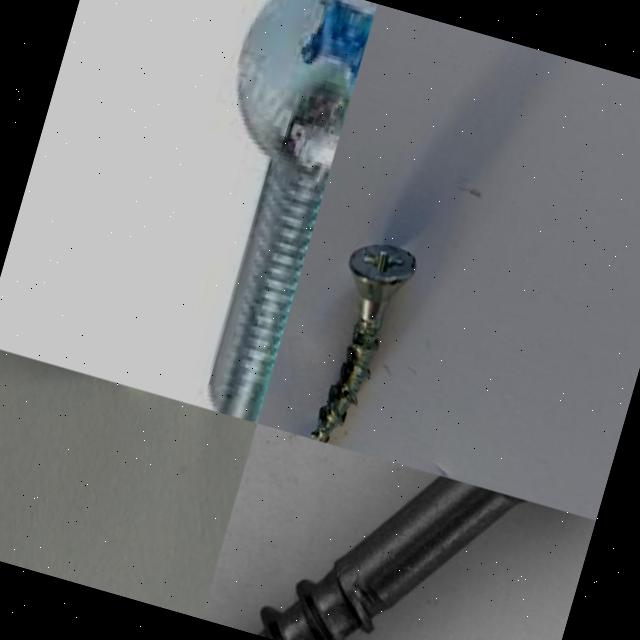Screw: (200, 422, 595, 640), (206, 0, 377, 423), (311, 243, 415, 442)
